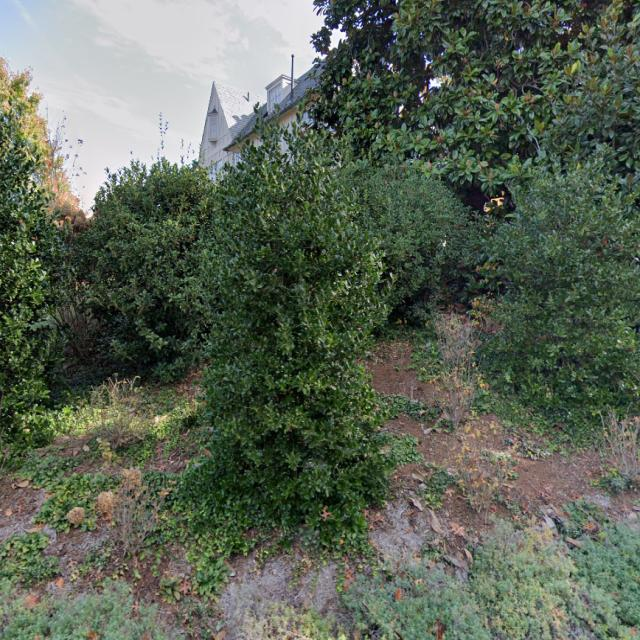House: (197, 22, 426, 178)
